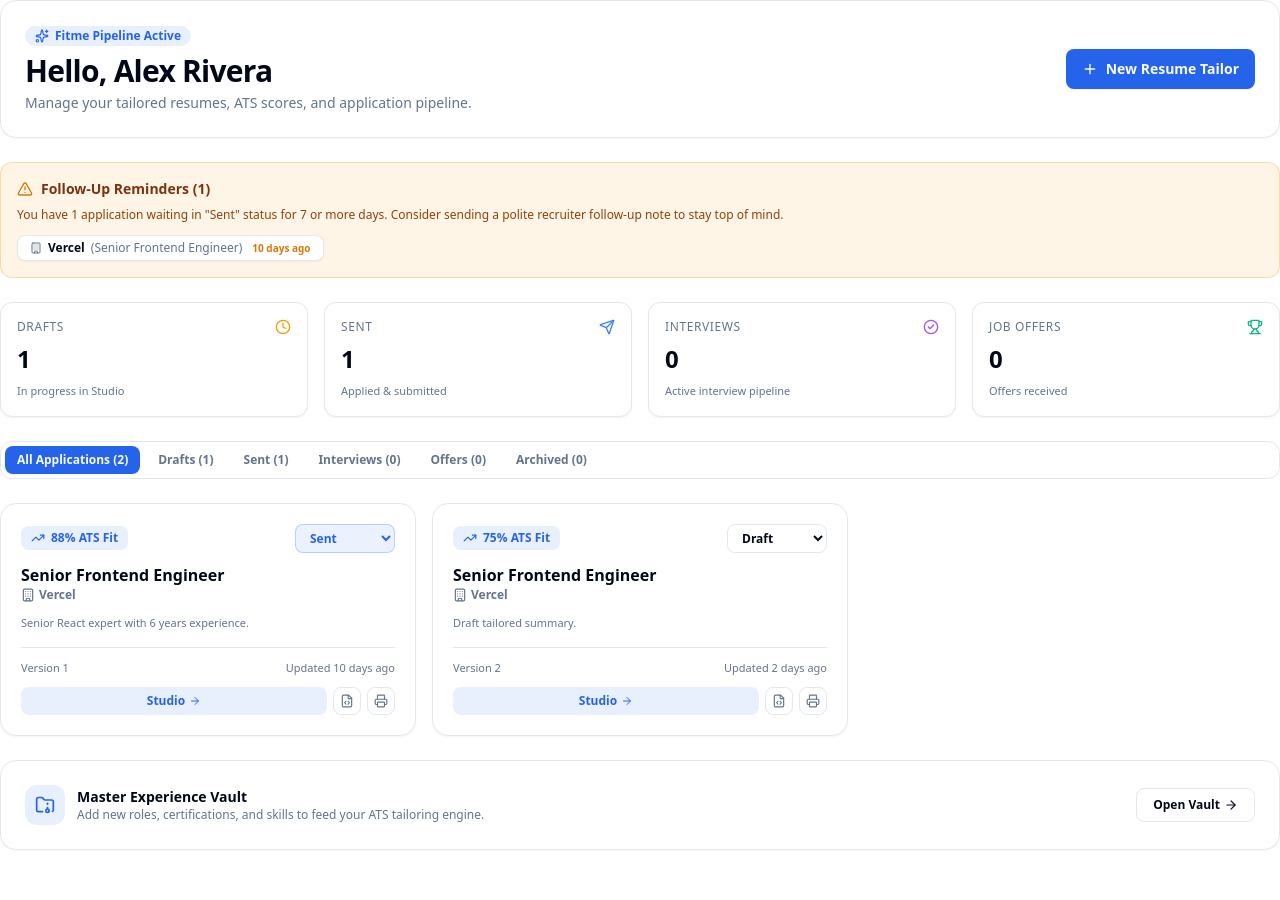
Test: Application Pipeline Dashboard › filters application cards by status
The image size is (1280, 900).
Click Drafts tab
Click the button "Drafts (1)".
click(186, 460)  # box 146,446 -> 226,474
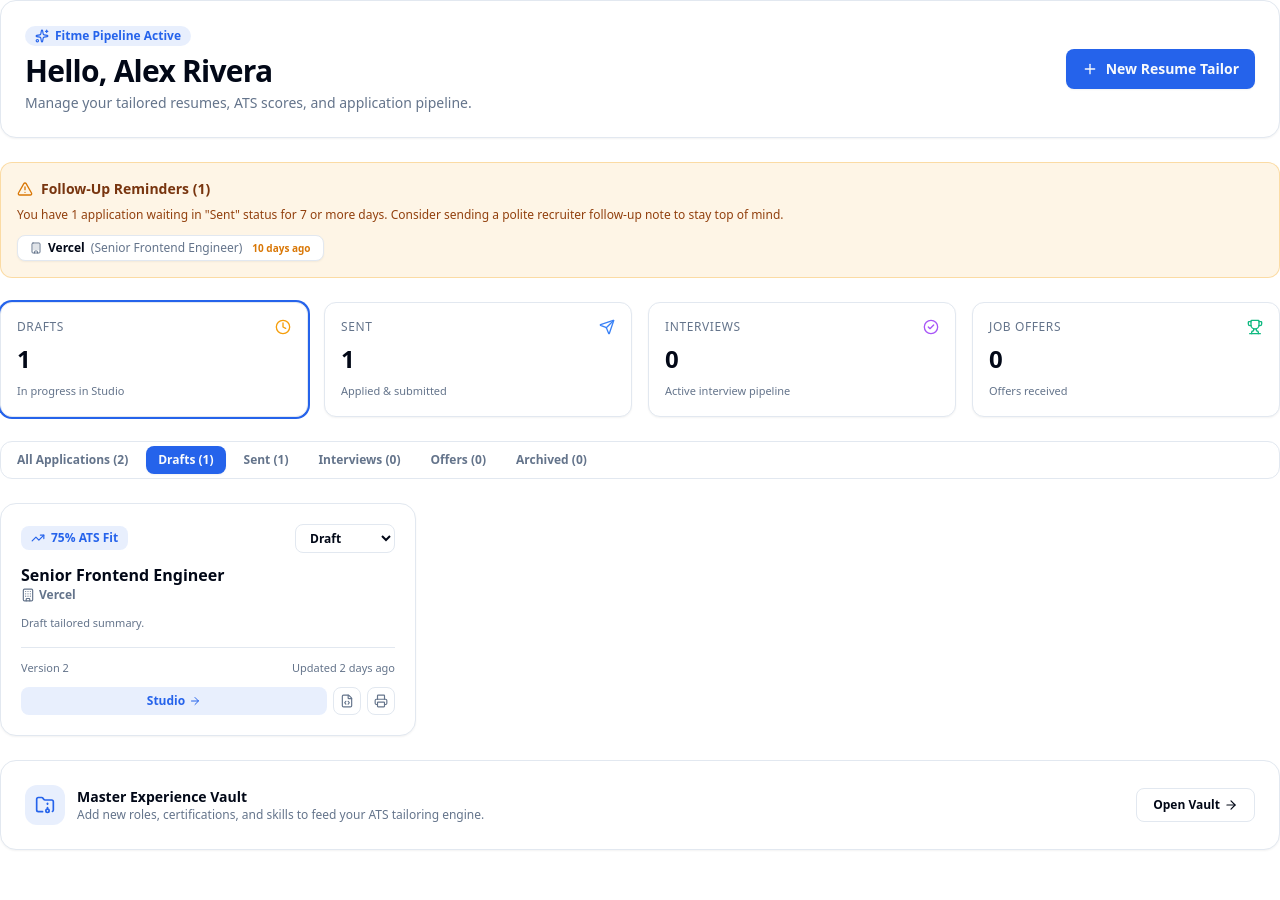
Expected: the text "Draft tailored summary." is shown, 21,614 -> 144,630
Expected: the text "Senior React expert with 6 years experience." is gone
Click Interviews tab (empty)
Click the button "Interviews (0)".
click(360, 460)  # box 306,446 -> 412,474
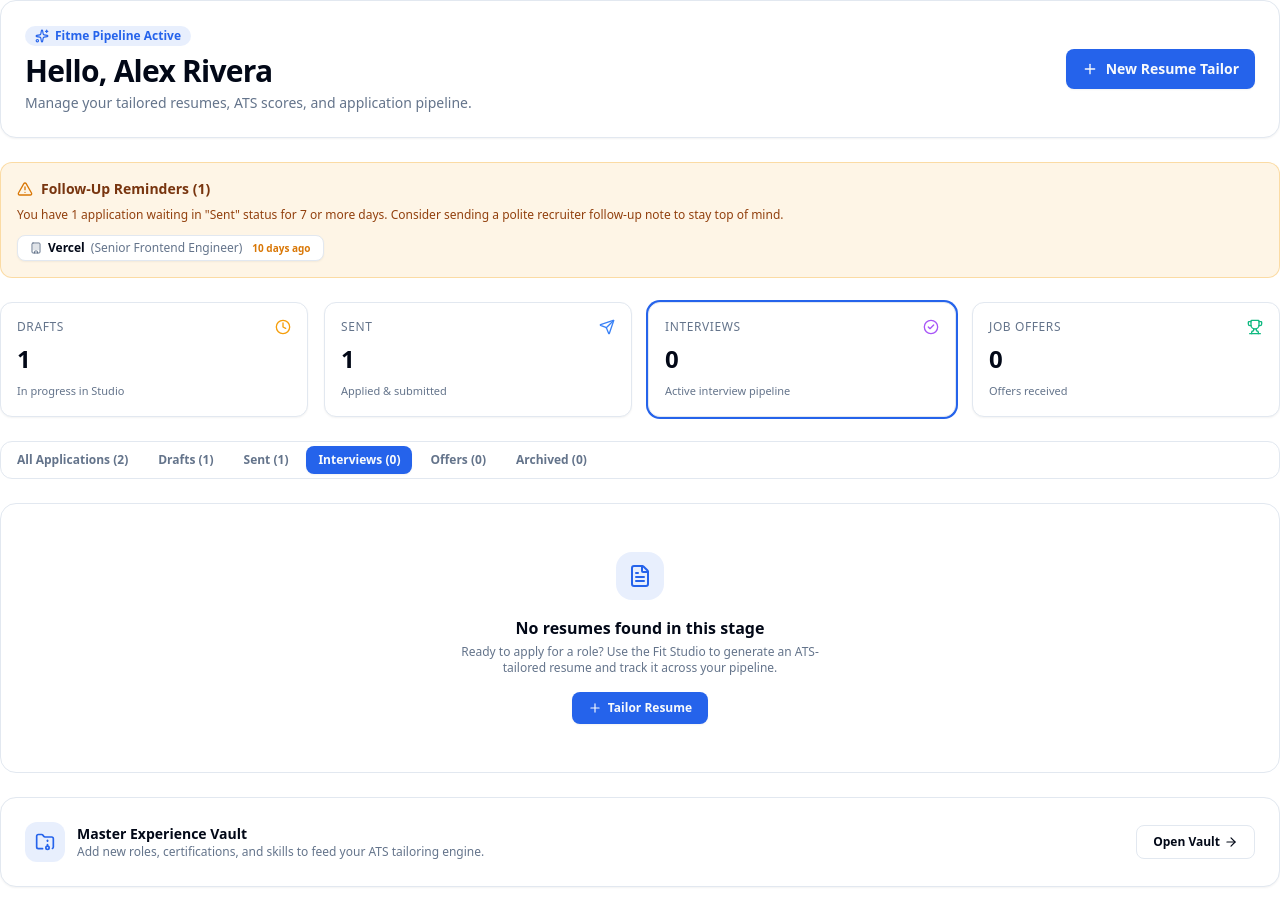
Expected: the heading "No resumes found in this stage" is shown, 516,616 -> 764,638
